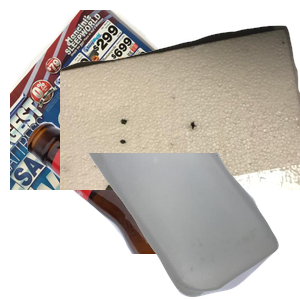glass: (25, 120, 265, 300)
paper: (10, 10, 240, 190)
plastic: (84, 153, 300, 300)
trash: (60, 23, 300, 203)
